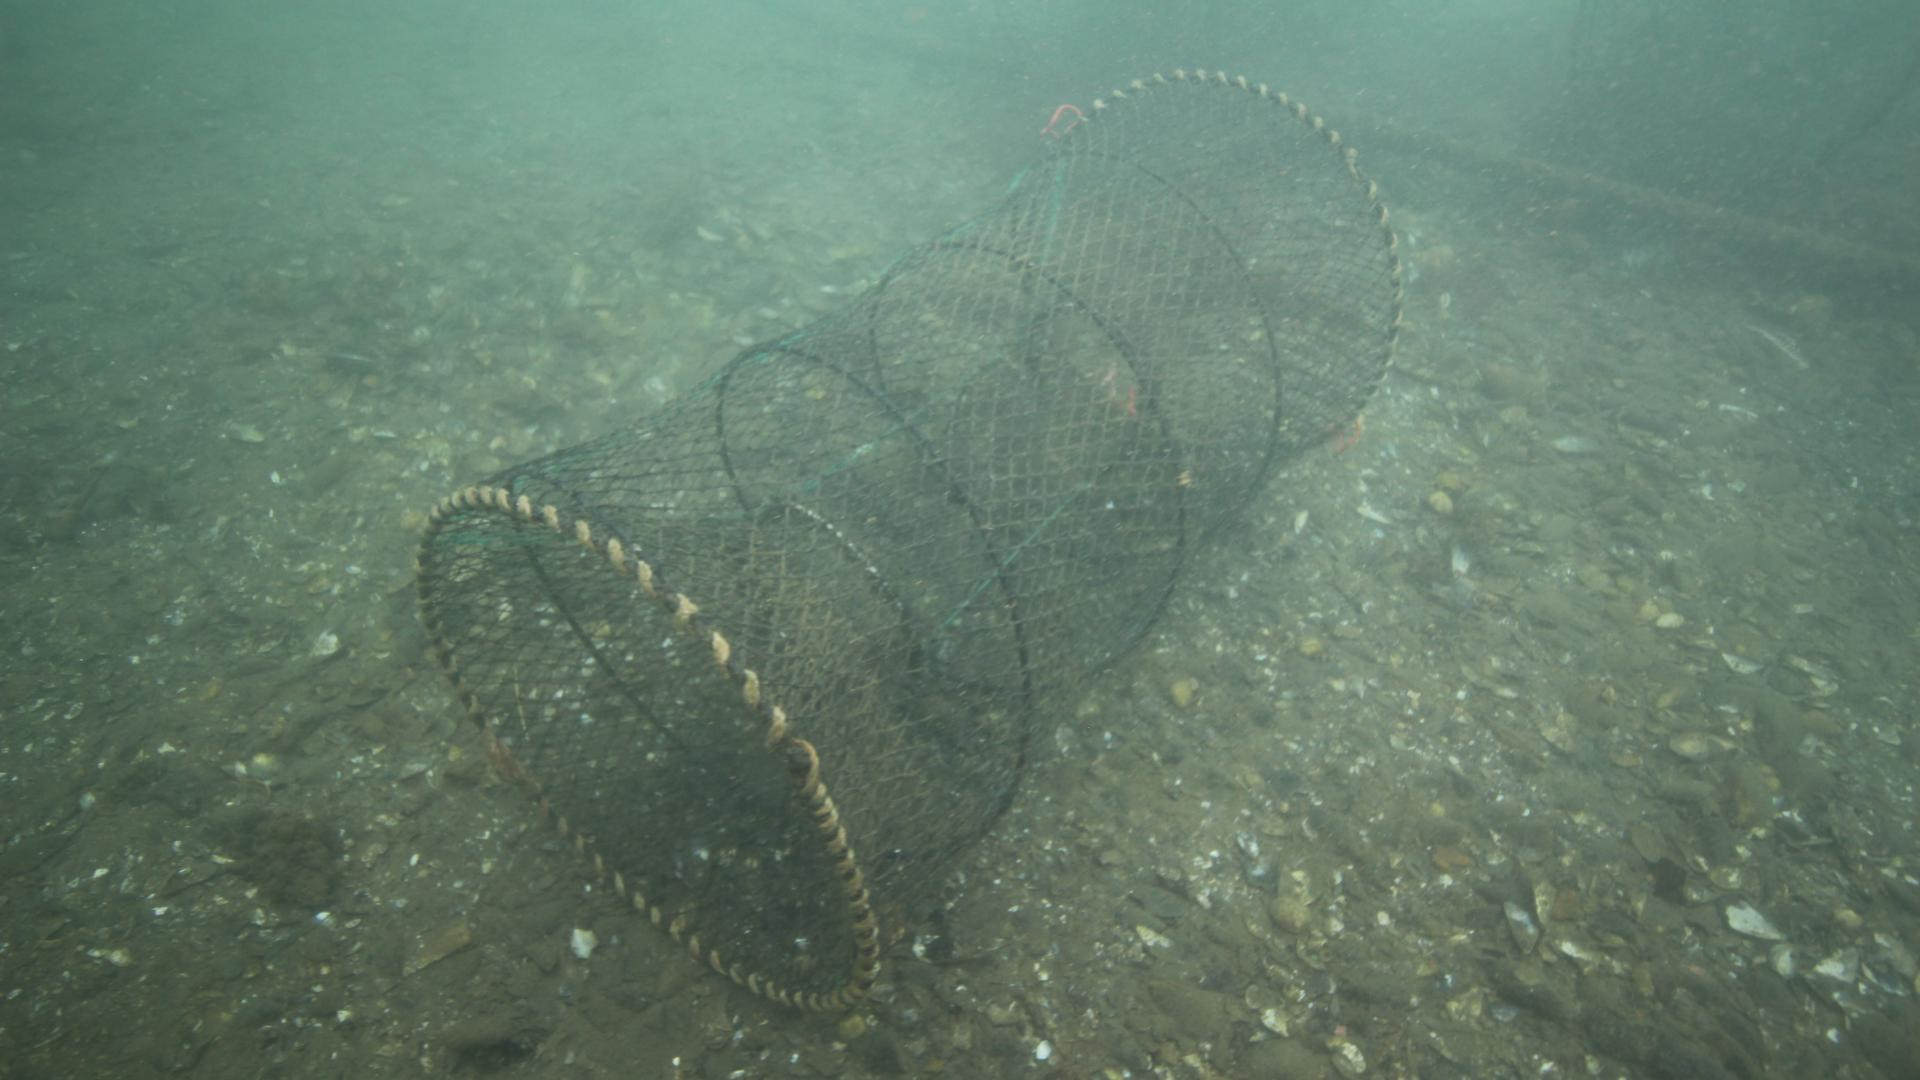spring fish trap: (417, 65, 1404, 1013)
